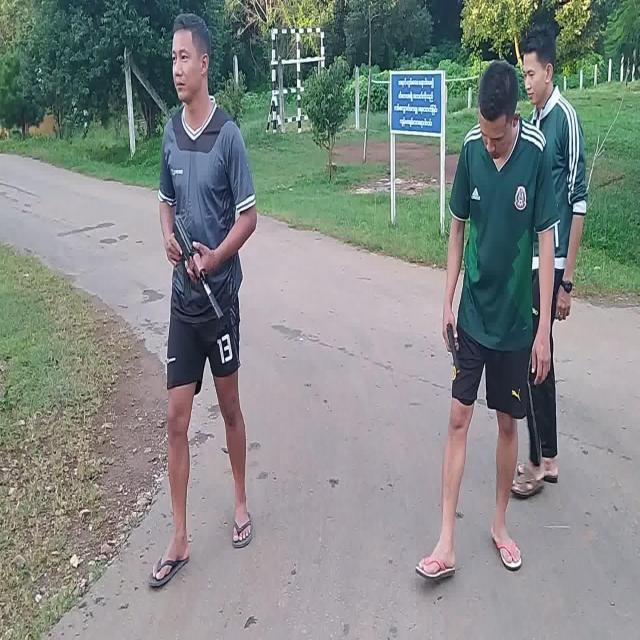gun: (174, 218, 224, 322), (447, 325, 460, 375)
